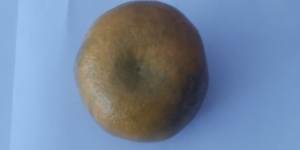BAD: (69, 2, 210, 140)
